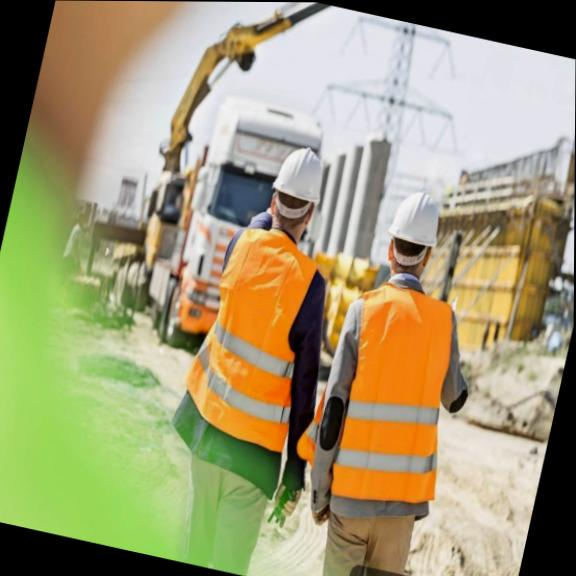safety_vest: (299, 256, 481, 522), (172, 214, 343, 459)
